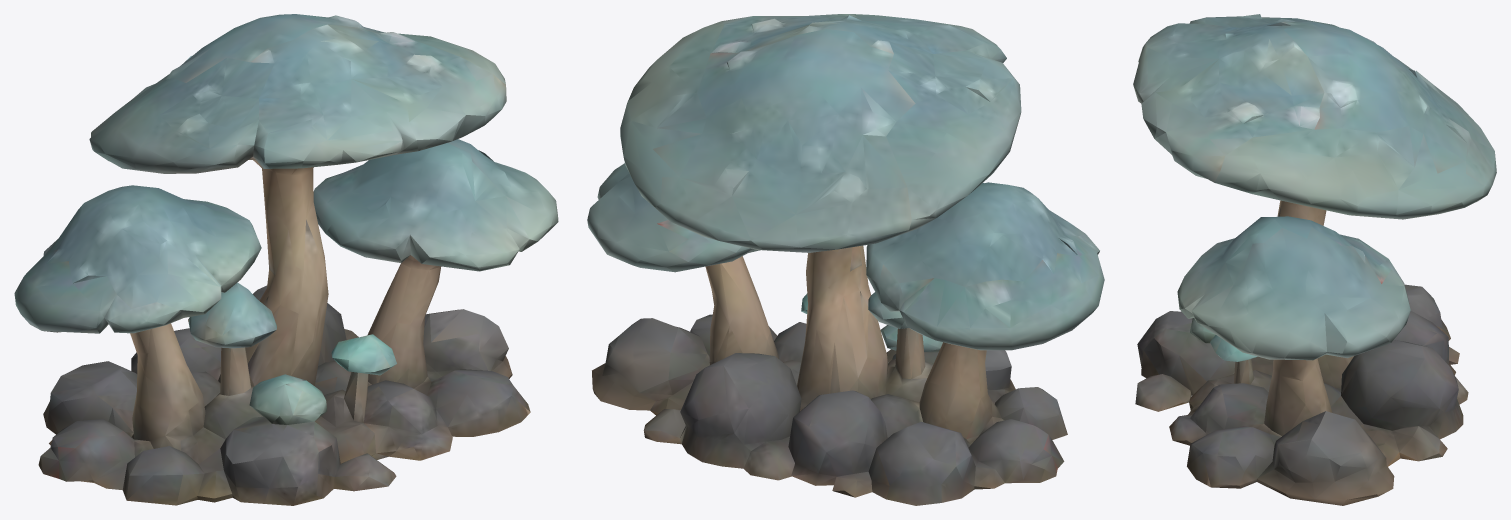
The model's file is setas_azules_3000.glb.
3 views of the same model, side by side, from view 1: azimuth 30°, elevation 25°; view 2: azimuth 150°, elevation 25°; view 3: azimuth 270°, elevation 25° (orthographic). The views are drawn at different scales.
Visible parts, largest first — view 1: setas_azules_malla; view 2: setas_azules_malla; view 3: setas_azules_malla.
Boxes of the visible parts, x1,y1,x2,y2 form: setas_azules_malla: [14, 14, 558, 505]; setas_azules_malla: [587, 14, 1104, 505]; setas_azules_malla: [1133, 14, 1496, 505].
Size of the model in its own units: 0.2678 by 0.1973 by 0.1765.
Materials: 1 (1 with a texture image).
